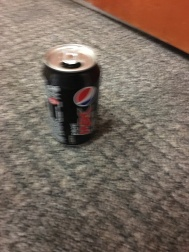can_black: (29, 34, 115, 154)
